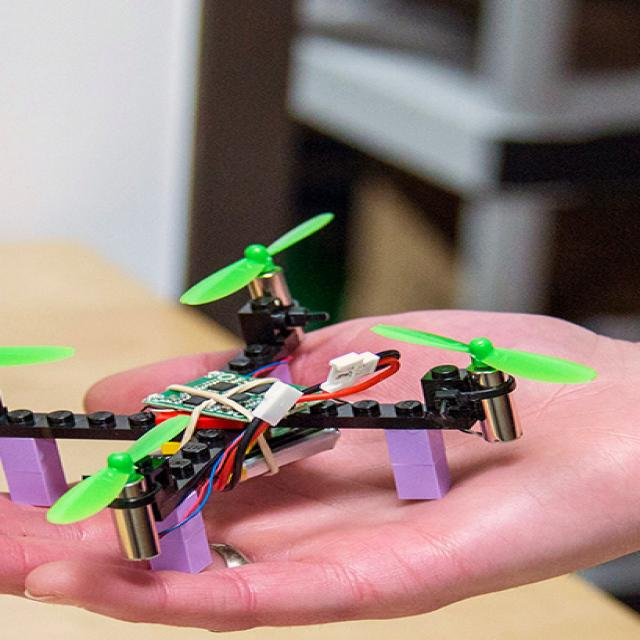drone: (0, 194, 607, 586)
